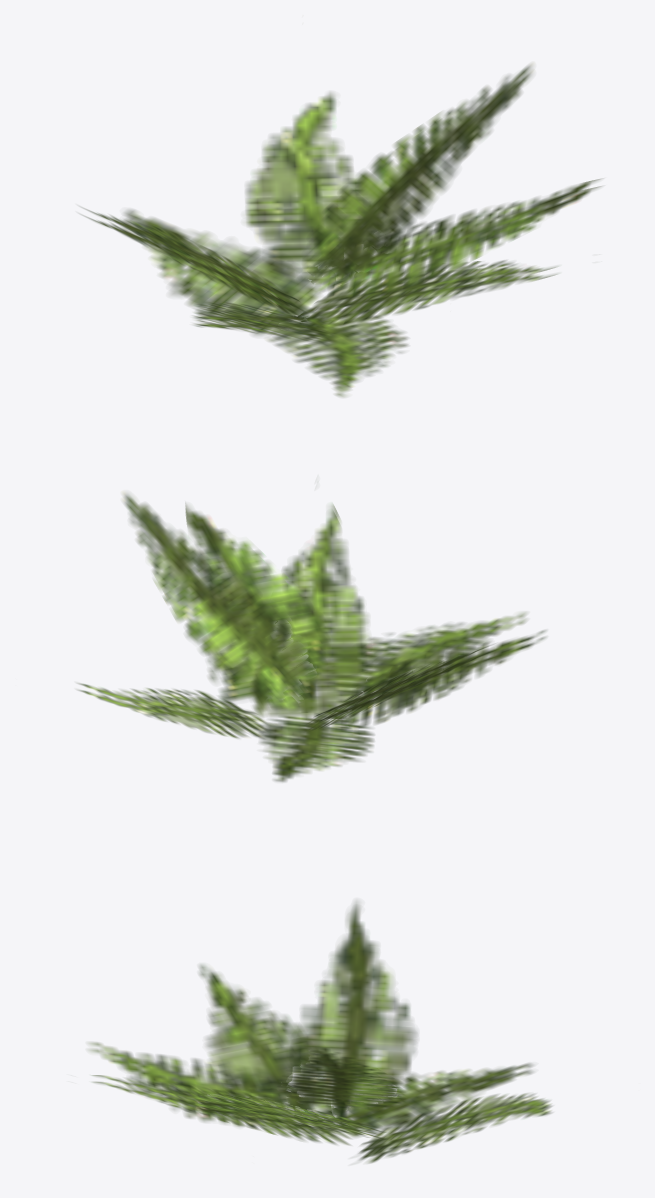
Rendered from plant-01.glb.
3 views of the same model, one above another, from view 1: azimuth 30°, elevation 25°; view 2: azimuth 150°, elevation 25°; view 3: azimuth 270°, elevation 25° (orthographic). The views are drawn at different scales.
Visible parts, largest first — view 1: Fern; view 2: Fern; view 3: Fern.
Boxes of the visible parts, bbox=[...] form: Fern: bbox=[82, 64, 601, 396]; Fern: bbox=[78, 493, 545, 781]; Fern: bbox=[89, 902, 551, 1163].
Size of the model in its own units: 5.8 by 2.51 by 6.5.
Materials: 1 (1 with a texture image).
